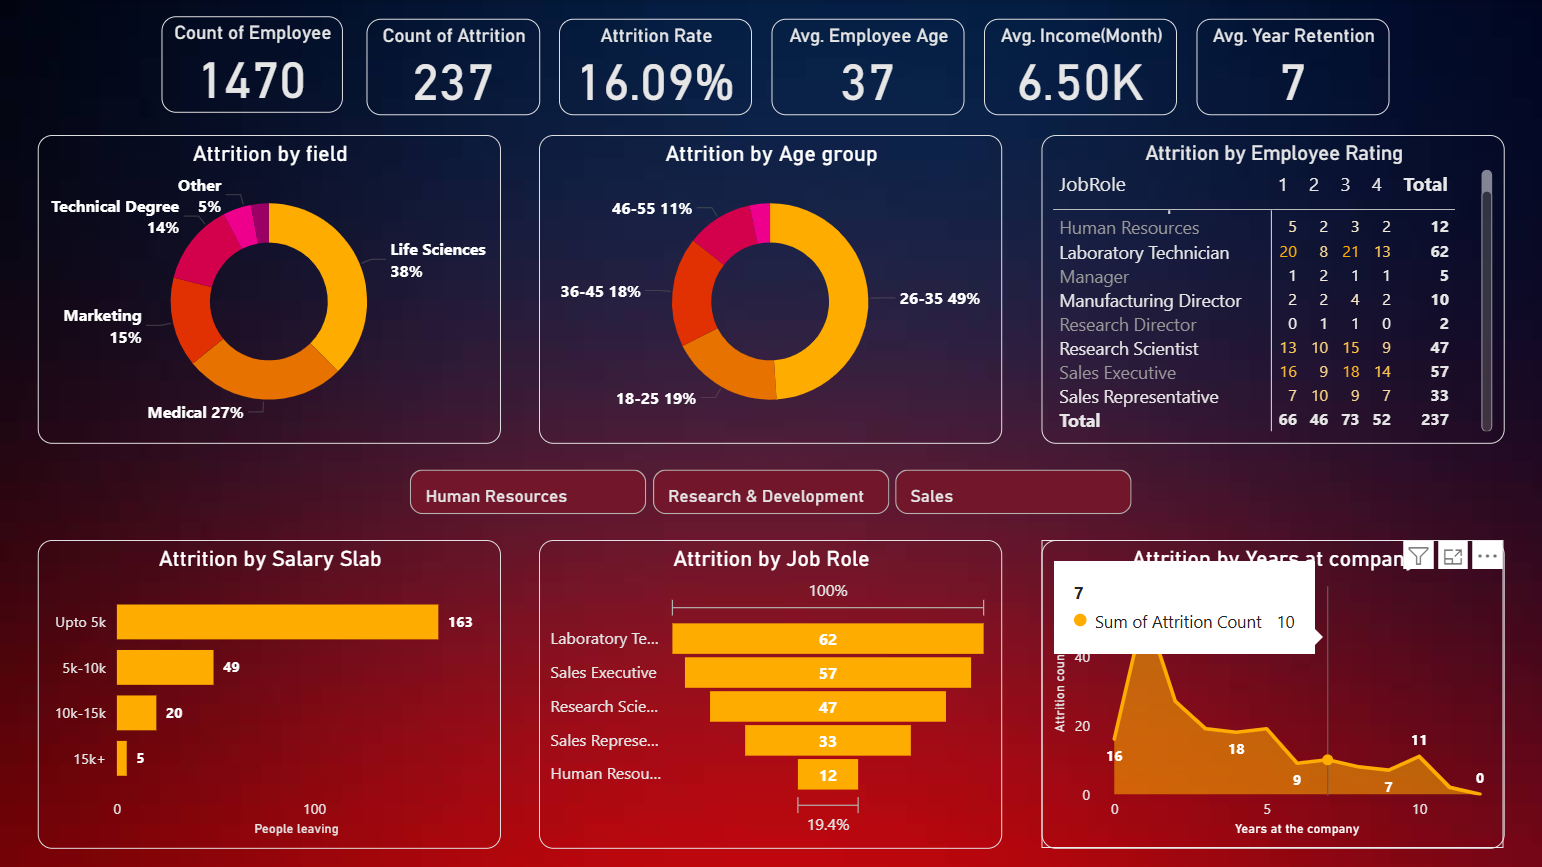

What the dashboard file says about the page in this screenshot:
{"tool":"powerbi","page":{"name":"Page 1","canvas":[1280,720],"ordinal":0},"visuals":[{"type":"card","title":"Count of Employee","fields":{"Values":["Count(HR analytics data.EmpID)"]},"box":[135.2,13.6,150,80],"z":0},{"type":"card","title":"Count of Attrition","fields":{"Values":["Sum(HR analytics data.Attrition Count)"]},"box":[304.6,15.7,144,80],"z":1000},{"type":"card","title":"Attrition Rate","fields":{"Values":["HR analytics data.Attrition rAte"]},"box":[464.6,15.7,160,80],"z":2000},{"type":"card","title":"Avg. Employee Age","fields":{"Values":["Avg(HR analytics data.Age)"]},"box":[640.6,15.7,160,80],"z":3000},{"type":"card","title":"Avg. Income(Month)","fields":{"Values":["Avg(HR analytics data.MonthlyIncome)"]},"box":[816.6,15.7,160,80],"z":4000},{"type":"card","title":"Avg. Year Retention","fields":{"Values":["Avg(HR analytics data.YearsAtCompany)"]},"box":[992.6,15.7,160,80],"z":5000},{"type":"donutChart","title":"Attrition by field","fields":{"Category":["HR analytics data.EducationField"],"Y":["Sum(HR analytics data.Attrition Count)"]},"box":[32,112,384,256],"z":6000},{"type":"donutChart","title":"Attrition by Age group","fields":{"Y":["Sum(HR analytics data.Attrition Count)"],"Category":["HR analytics data.AgeGroup"]},"box":[448,112,384,256],"z":7000},{"type":"pivotTable","title":"Attrition by Employee Rating","fields":{"Rows":["HR analytics data.JobRole"],"Columns":["HR analytics data.JobSatisfaction"],"Values":["Sum(HR analytics data.Attrition Count)"]},"box":[864,112,384,256],"z":8000},{"type":"clusteredBarChart","title":"Attrition by Salary Slab","fields":{"Y":["Sum(HR analytics data.Attrition Count)"],"Category":["HR analytics data.SalarySlab"]},"box":[32,448,384,256],"z":9000},{"type":"funnel","title":"Attrition by Job Role","fields":{"Y":["Sum(HR analytics data.Attrition Count)"],"Category":["HR analytics data.JobRole"]},"box":[448,448,384,256],"z":10000},{"type":"areaChart","title":"Attrition by Years at company","fields":{"Y":["Sum(HR analytics data.Attrition Count)"],"Category":["HR analytics data.YearsAtCompany"]},"box":[864,448,384,256],"z":11000},{"type":"advancedSlicerVisual","title":"Department","fields":{"Values":["HR analytics data.Department"]},"box":[304,384,608,48],"z":13000}]}

Visuals, with their boxes in screenshot pixels (x1, y1, x2, y2), scaled from the page's 1280x720 canvas onto the 1542x867 screenshot:
"Count of Employee" card: [left=163, top=16, right=344, bottom=113]
"Count of Attrition" card: [left=367, top=19, right=540, bottom=115]
"Attrition Rate" card: [left=560, top=19, right=752, bottom=115]
"Avg. Employee Age" card: [left=772, top=19, right=964, bottom=115]
"Avg. Income(Month)" card: [left=984, top=19, right=1176, bottom=115]
"Avg. Year Retention" card: [left=1196, top=19, right=1389, bottom=115]
"Attrition by field" donutChart: [left=39, top=135, right=501, bottom=443]
"Attrition by Age group" donutChart: [left=540, top=135, right=1002, bottom=443]
"Attrition by Employee Rating" pivotTable: [left=1041, top=135, right=1503, bottom=443]
"Attrition by Salary Slab" clusteredBarChart: [left=39, top=539, right=501, bottom=848]
"Attrition by Job Role" funnel: [left=540, top=539, right=1002, bottom=848]
"Attrition by Years at company" areaChart: [left=1041, top=539, right=1503, bottom=848]
"Department" advancedSlicerVisual: [left=366, top=462, right=1099, bottom=520]
